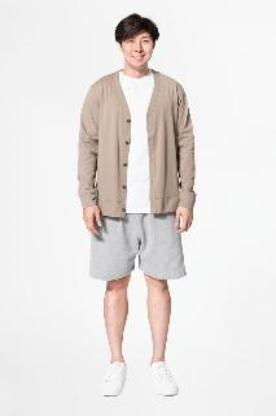person: (72, 4, 204, 416)
